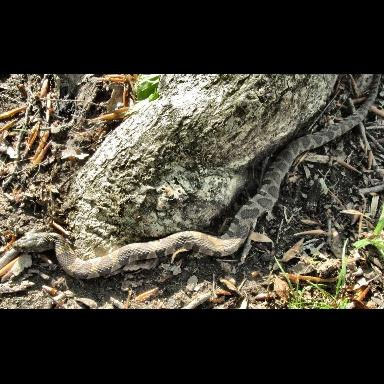snake: (6, 74, 384, 287)
